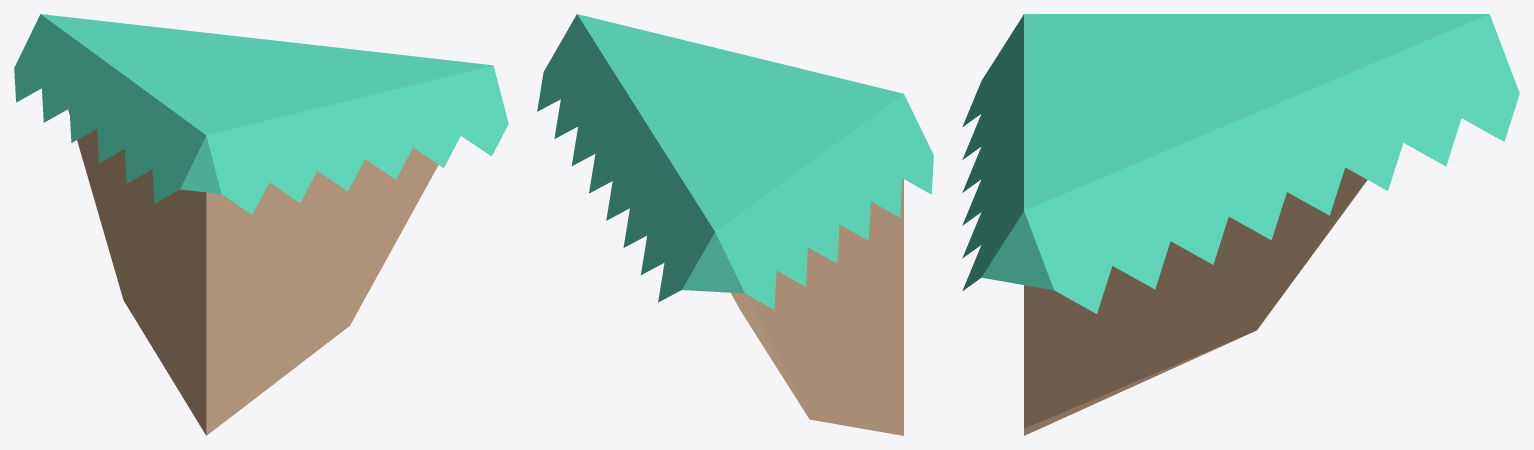
File: blockCliffCorner.glb
3 renders of one model, left to right at view 1: azimuth 30°, elevation 25°; view 2: azimuth 150°, elevation 25°; view 3: azimuth 270°, elevation 25°, orthographic. The views are drawn at different scales.
Parts seen in each view (by area): view 1: blockCliffCorner(Clone); view 2: blockCliffCorner(Clone); view 3: blockCliffCorner(Clone).
Boxes of the visible parts, left/top/right/bottom form: blockCliffCorner(Clone): left=14, top=14, right=508, bottom=435; blockCliffCorner(Clone): left=537, top=14, right=933, bottom=435; blockCliffCorner(Clone): left=962, top=14, right=1519, bottom=435.
Size of the model in its own units: 1.2 by 1 by 1.2.
